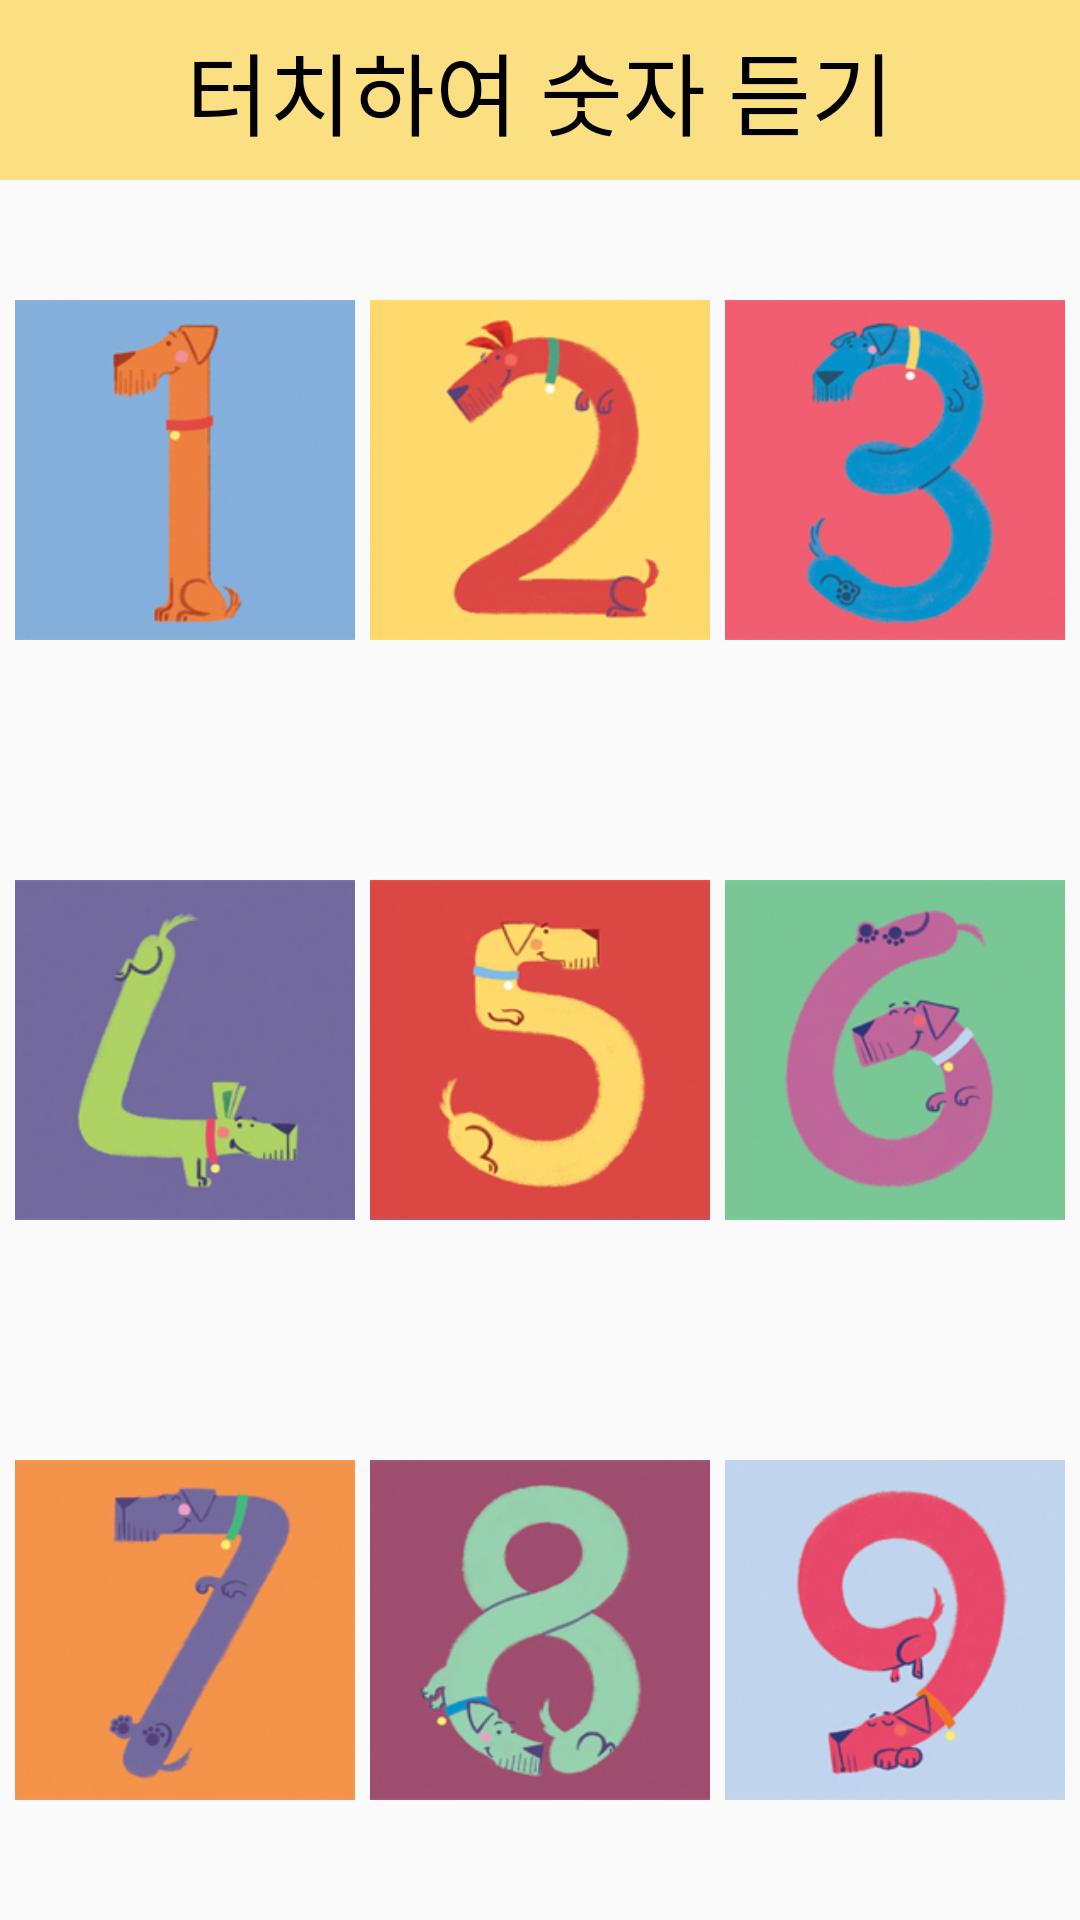

Named icons in this screenshot (1080*1920) and their centers, (x,y):
eight: (540,1630)
nine: (895,1630)
seven: (185,1630)
six: (895,1050)
